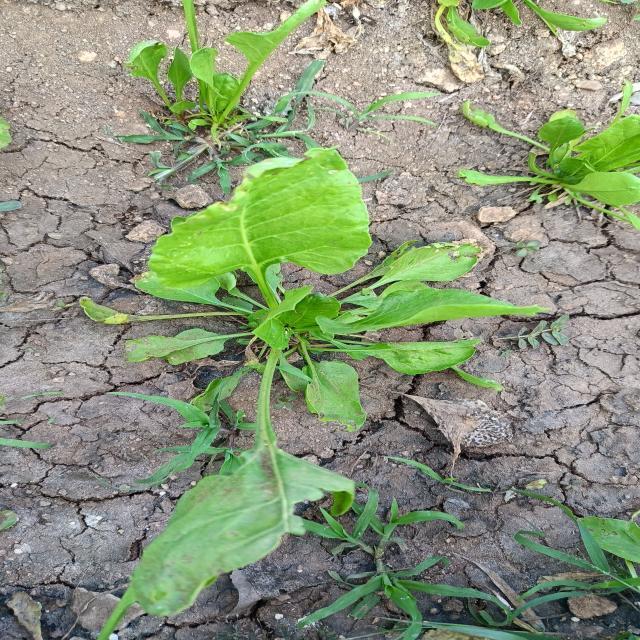half-leaf: (130, 333, 442, 633)
leaves: (131, 139, 404, 338), (304, 269, 595, 353), (283, 337, 415, 448), (306, 320, 483, 398), (235, 290, 367, 350)
